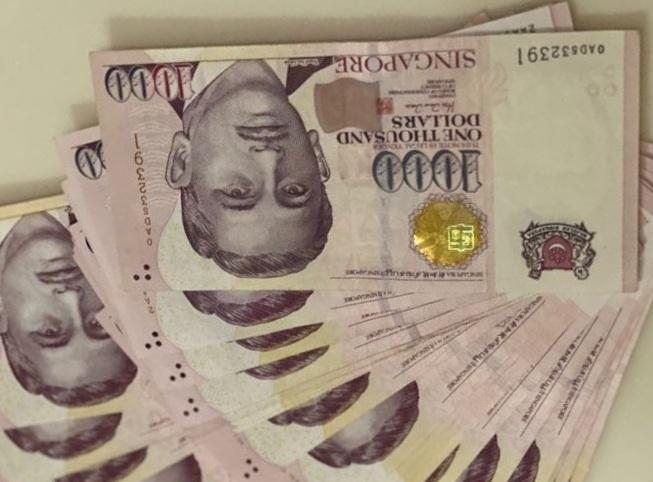1000SingaporeDollar: (106, 44, 636, 283)
